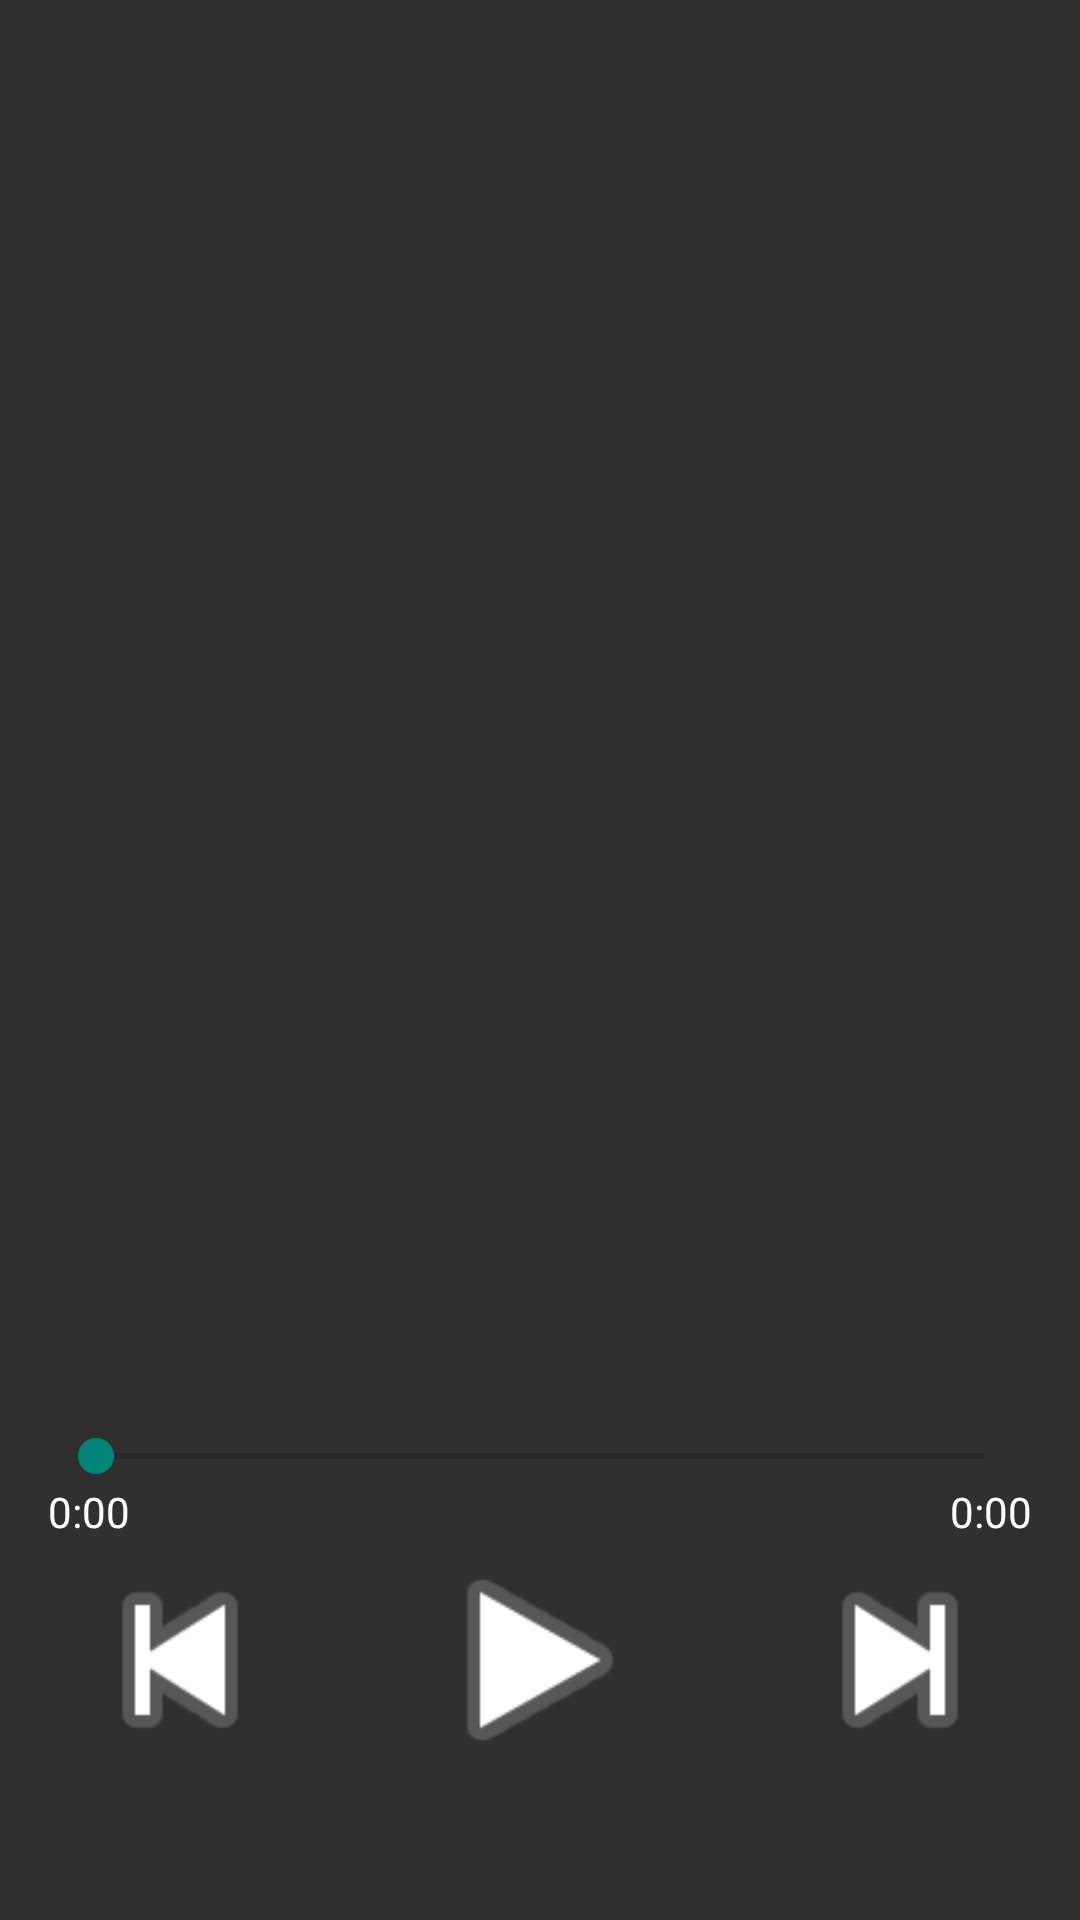

Locate icon controls on the screen. Image size 1080*1920, boxes as BBox(x1, y1, x2, y2).
next: BBox(843, 1593, 957, 1727)
play pause: BBox(468, 1580, 612, 1740)
previous: BBox(123, 1593, 237, 1727)
